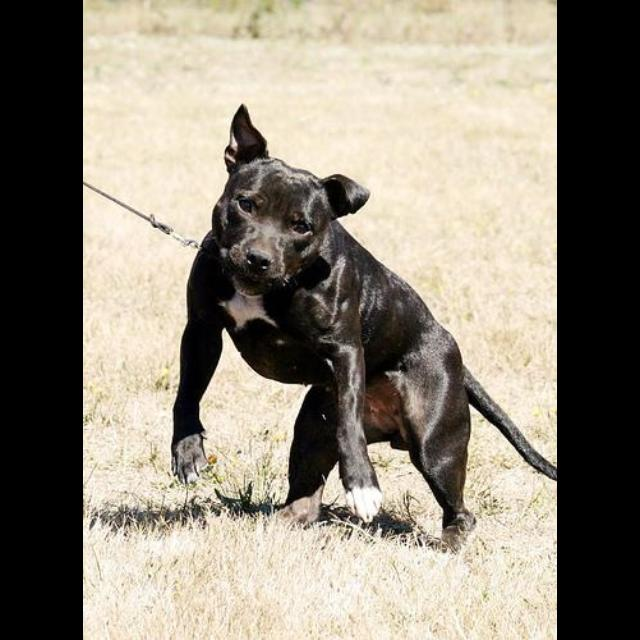staffford: (171, 103, 558, 556)
